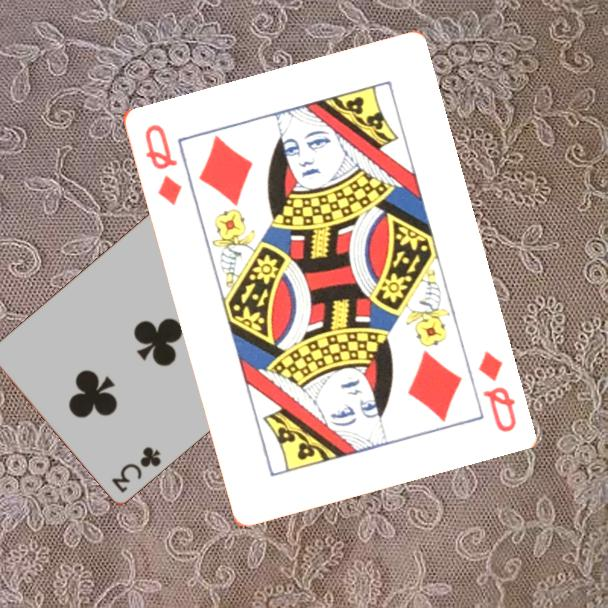c03: (108, 443, 164, 495)
d12: (473, 347, 519, 435), (140, 120, 185, 208)
